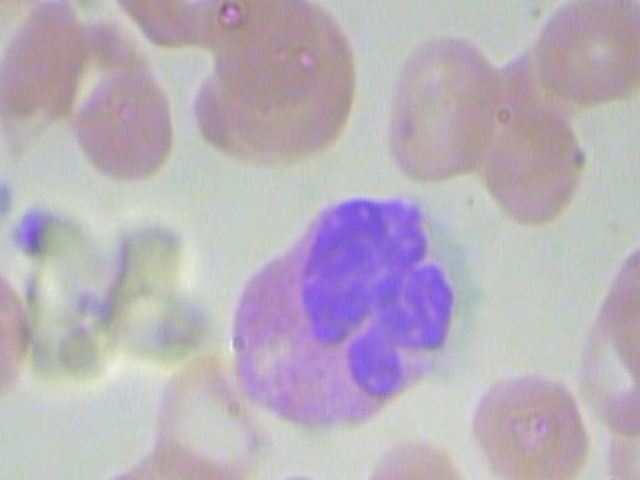RBC: (380, 26, 504, 183), (461, 370, 583, 480), (72, 64, 176, 187), (535, 0, 640, 107), (579, 296, 640, 430), (602, 234, 640, 387), (599, 376, 640, 480)
WBC: (222, 186, 466, 440)
